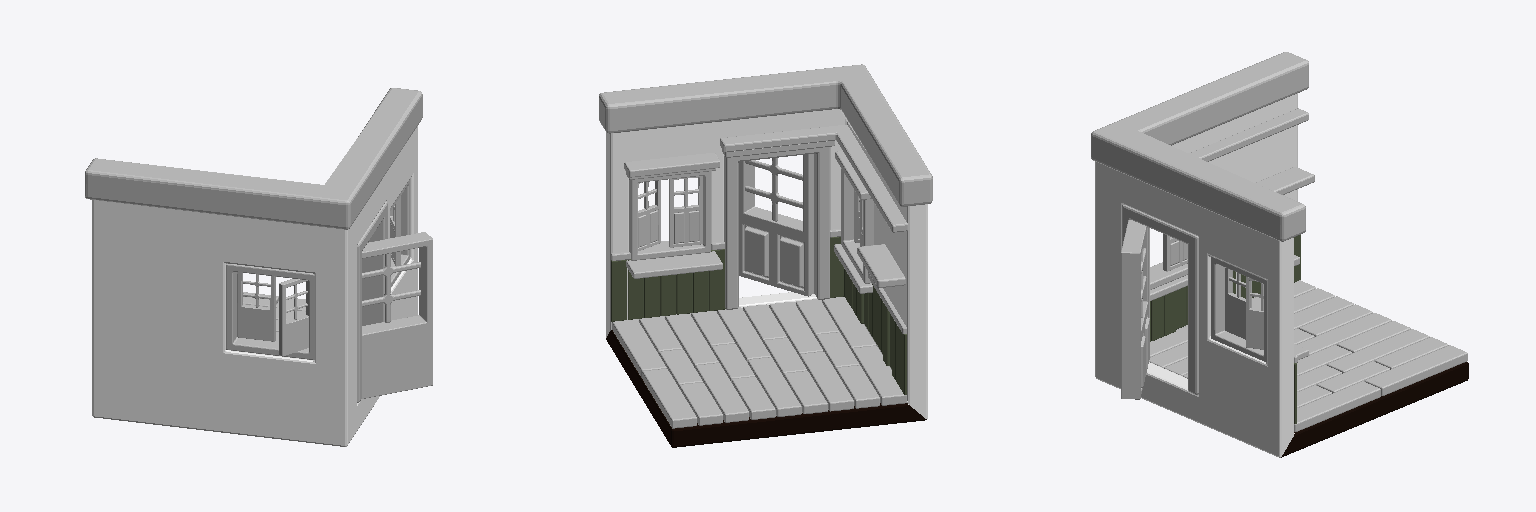
Rendered from blender-3.5-splash.obj.
3 views of the same model, side by side, from view 1: azimuth 30°, elevation 25°; view 2: azimuth 150°, elevation 25°; view 3: azimuth 270°, elevation 25° (orthographic).
Visible parts, largest first — view 1: Walls_Cube.001, Walls.001_Cube.002, Door_Cube.001, Window.001_Plane.001, Window_Plane.001, Ground_Cube.001; view 2: Ground_Cube.001, Walls_Cube.001, Walls.001_Cube.002, Door_Cube.001, Window_Plane.001, Walls.003_Cube.001, Shelf.001_Cube.001, Window.001_Plane.001, Shelf_Plane.001, Walls.002_Cube.001; view 3: Walls_Cube.001, Walls.001_Cube.002, Ground_Cube.001, Door_Cube.001, Window_Plane.001, Walls.003_Cube.001, Shelf.001_Cube.001, Window.001_Plane.001, Shelf_Plane.001.
Part boxes in pixels (x1,y1,x2,y2): Walls_Cube.001: (92, 126, 417, 446); Walls.001_Cube.002: (85, 88, 422, 229); Door_Cube.001: (357, 202, 432, 402); Window.001_Plane.001: (226, 264, 314, 359); Window_Plane.001: (390, 180, 409, 286); Ground_Cube.001: (243, 292, 305, 336); Ground_Cube.001: (612, 297, 906, 428); Walls_Cube.001: (606, 109, 927, 447); Walls.001_Cube.002: (599, 64, 932, 206); Door_Cube.001: (722, 141, 834, 309); Window_Plane.001: (624, 153, 722, 278); Walls.003_Cube.001: (611, 237, 906, 394); Shelf.001_Cube.001: (720, 125, 907, 232); Window.001_Plane.001: (834, 151, 873, 293); Shelf_Plane.001: (857, 244, 905, 287); Walls.002_Cube.001: (611, 229, 906, 333); Walls_Cube.001: (1095, 93, 1468, 457); Walls.001_Cube.002: (1091, 52, 1308, 241); Ground_Cube.001: (1149, 280, 1467, 431); Door_Cube.001: (1121, 204, 1198, 399); Window_Plane.001: (1211, 255, 1308, 362); Walls.003_Cube.001: (1150, 235, 1300, 423); Shelf.001_Cube.001: (1189, 108, 1308, 161); Window.001_Plane.001: (1150, 234, 1187, 300); Shelf_Plane.001: (1256, 167, 1314, 194).
Size of the model in its own units: 788 by 557 by 769.